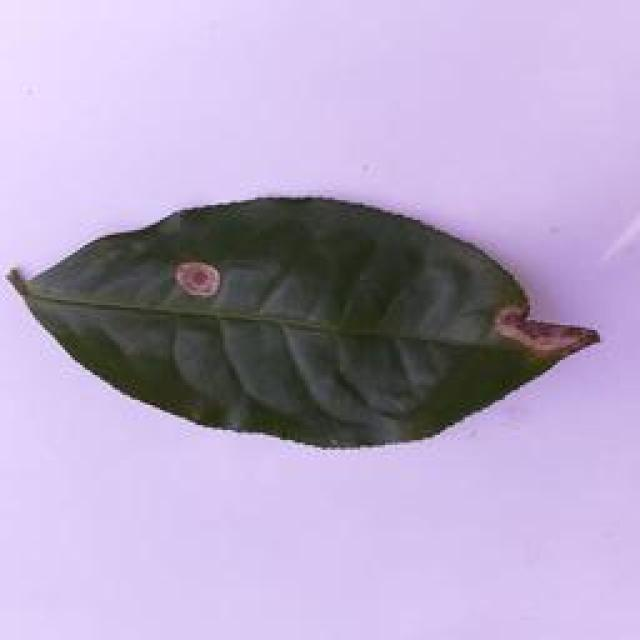Gray Blight: (8, 195, 601, 455)
